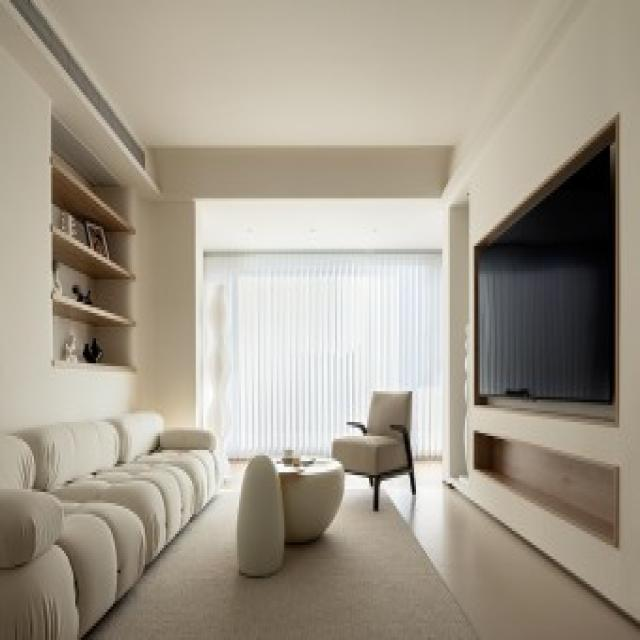Chair: (329, 384, 420, 502)
Sofa: (5, 403, 220, 629)
Table: (247, 444, 342, 548)
tv: (474, 168, 618, 413)
window: (204, 236, 438, 441)
